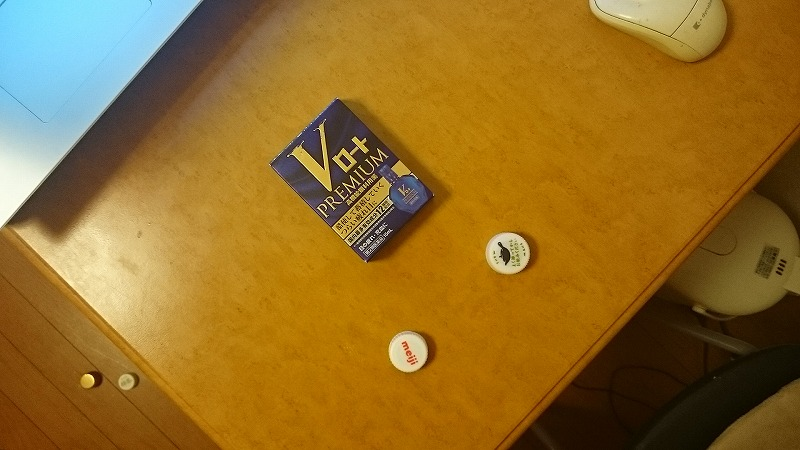A: (481, 230, 534, 276)
B: (388, 325, 432, 373)
D: (263, 94, 443, 266)
